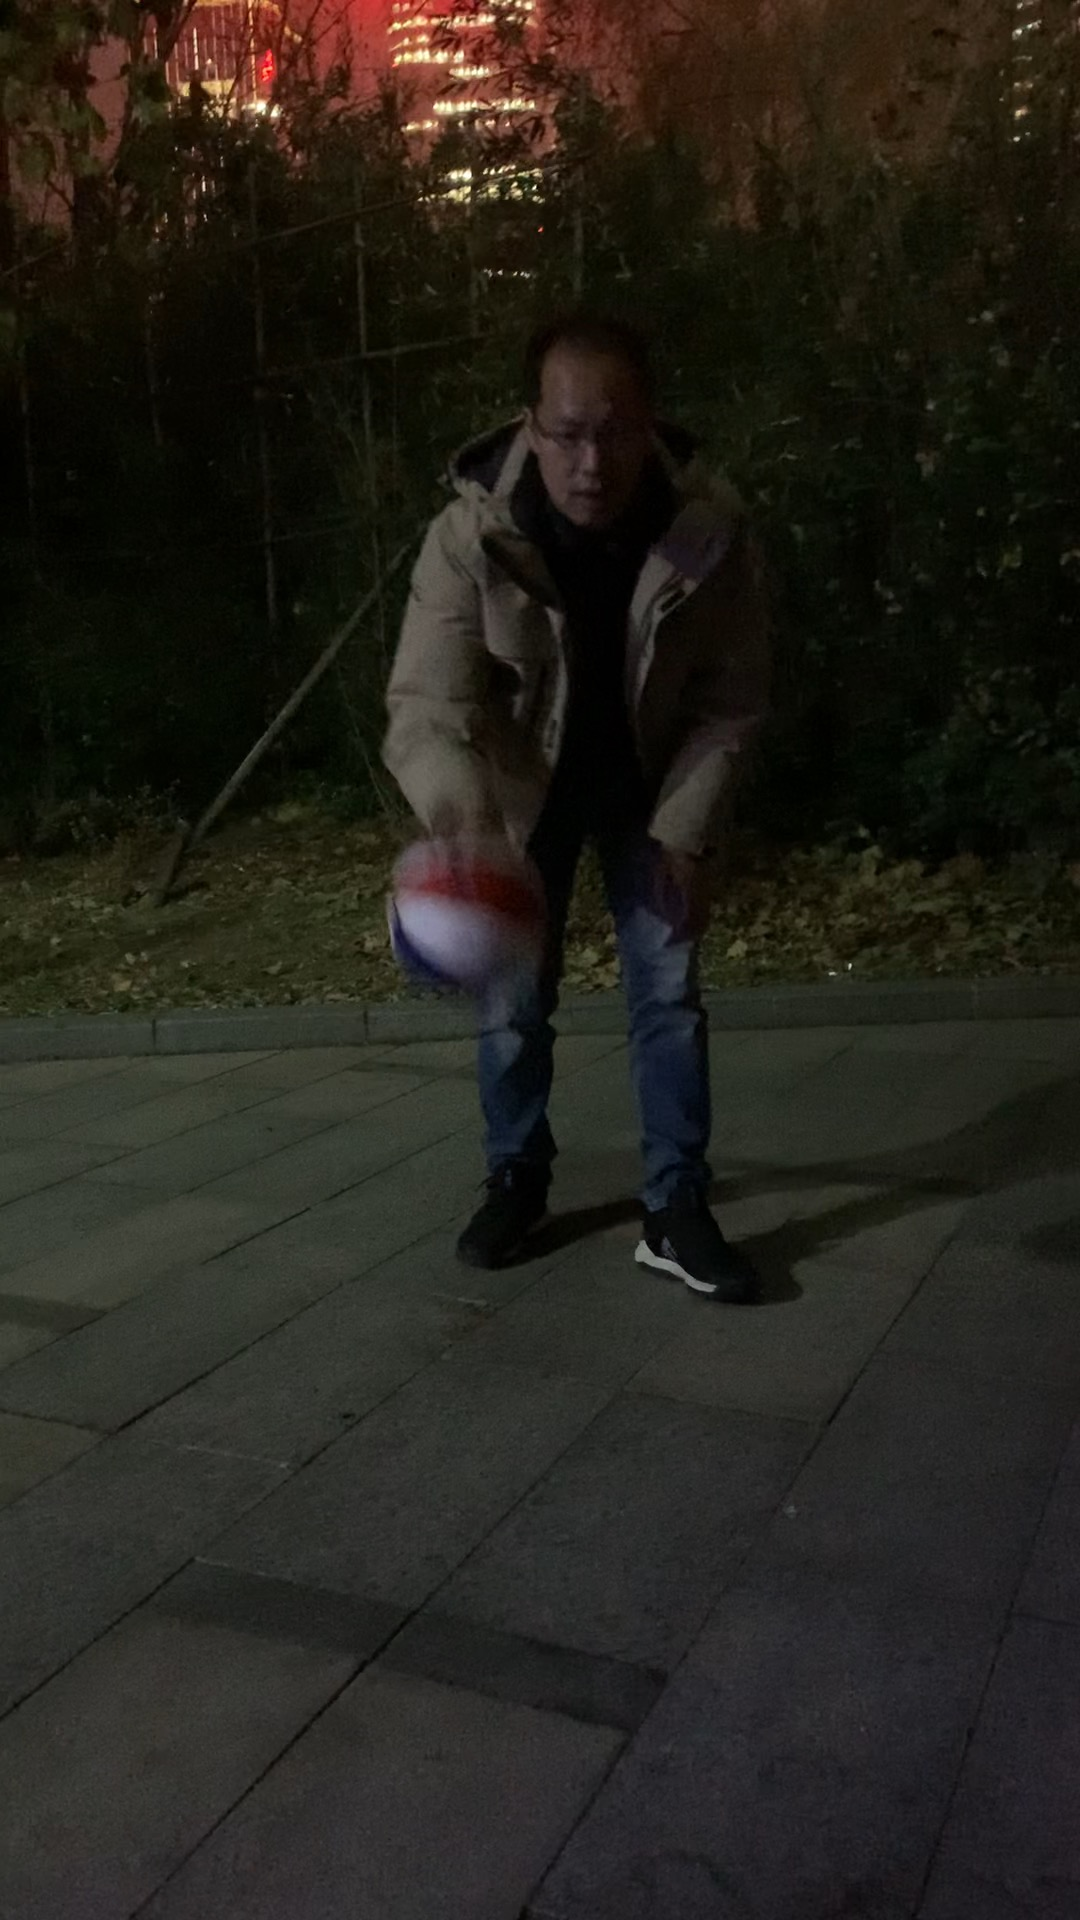ball: (378, 841, 541, 986)
